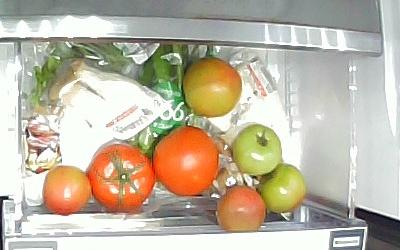tomato: (150, 124, 219, 196), (85, 142, 155, 211), (180, 55, 242, 117), (229, 122, 282, 175), (41, 164, 91, 215), (214, 184, 266, 232), (257, 162, 305, 213)
